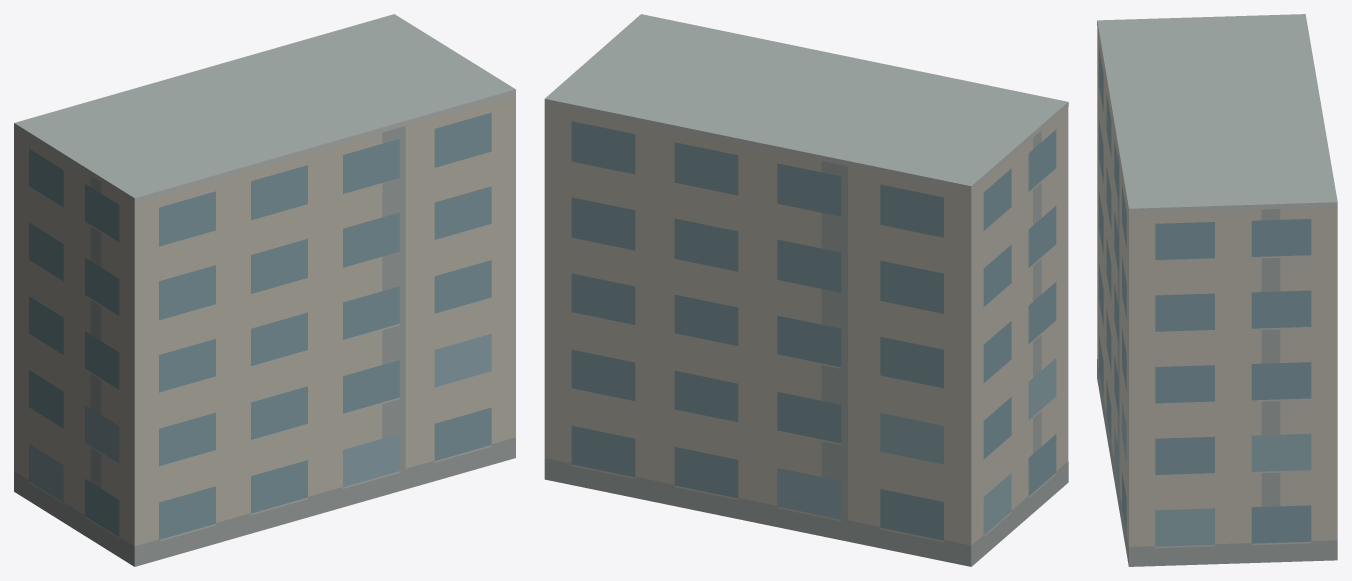
Rendered from survey-upis-32873747.glb.
3 renders of one model, left to right at view 1: azimuth 30°, elevation 25°; view 2: azimuth 150°, elevation 25°; view 3: azimuth 270°, elevation 25°, orthographic. The views are drawn at different scales.
Parts seen in each view (by area): view 1: survey-upis-32873747.tmp; view 2: survey-upis-32873747.tmp; view 3: survey-upis-32873747.tmp.
Boxes of the visible parts, x1,y1,x2,y2 form: survey-upis-32873747.tmp: (14, 14, 515, 566); survey-upis-32873747.tmp: (544, 14, 1068, 566); survey-upis-32873747.tmp: (1097, 14, 1337, 566).
Bounding box in the file's own units: 20.18 × 17.3 × 10.54.
